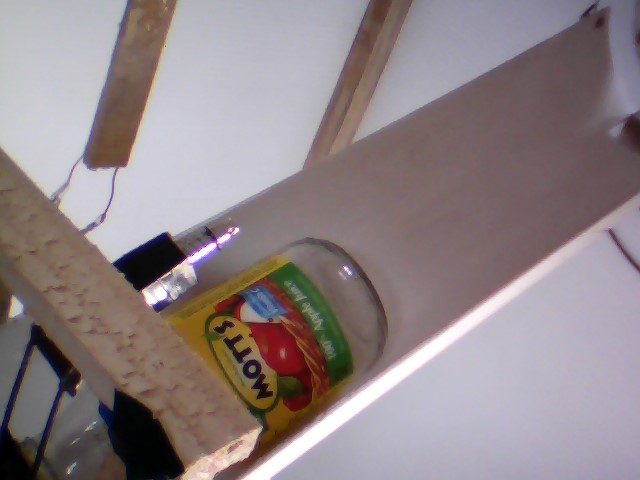vidrio: (168, 234, 393, 437)
